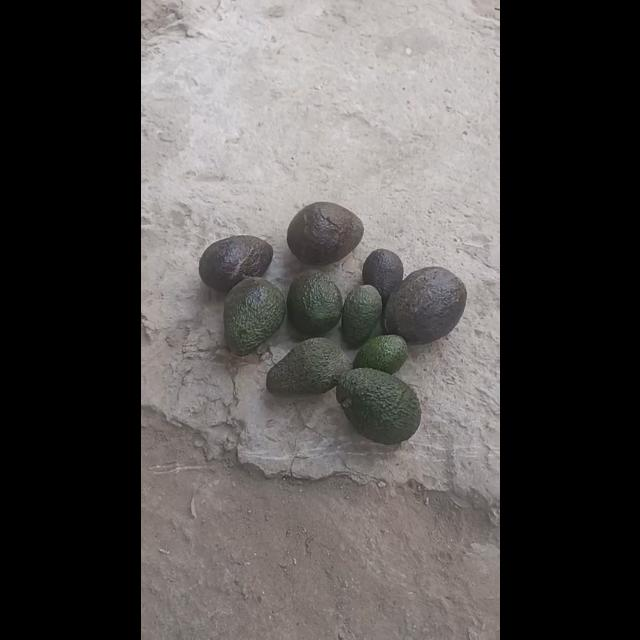Primera: (384, 266, 466, 344), (336, 368, 420, 442), (285, 200, 363, 266), (221, 276, 285, 354), (198, 235, 270, 291)
Segunda: (266, 336, 350, 394), (286, 269, 342, 335)
Tercera: (340, 284, 382, 346), (360, 247, 404, 303), (352, 332, 406, 376)
